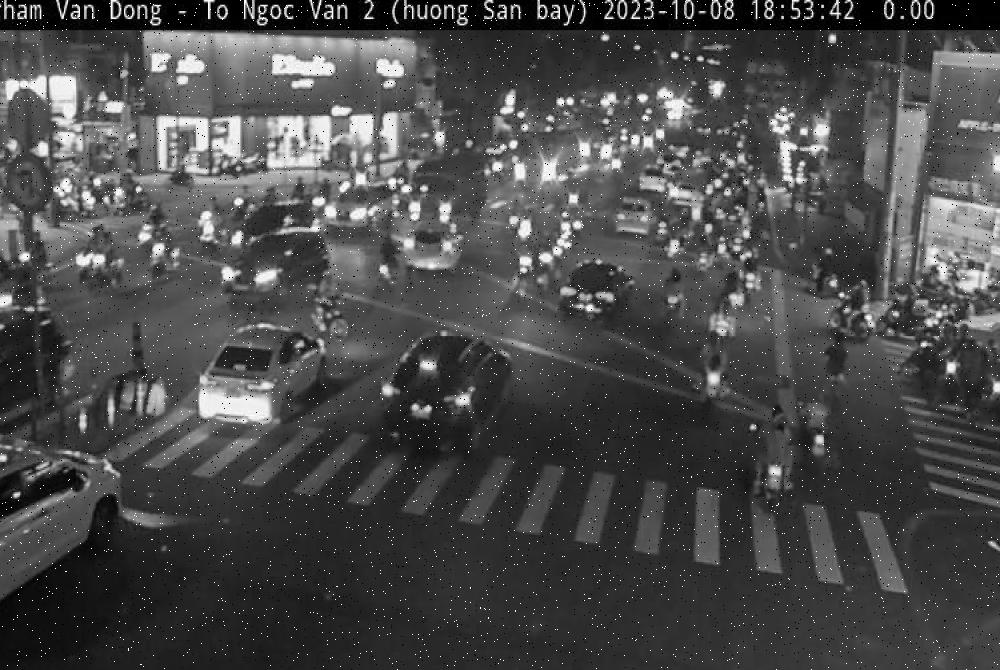car: (0, 428, 125, 611), (376, 328, 515, 451), (196, 322, 326, 429)
